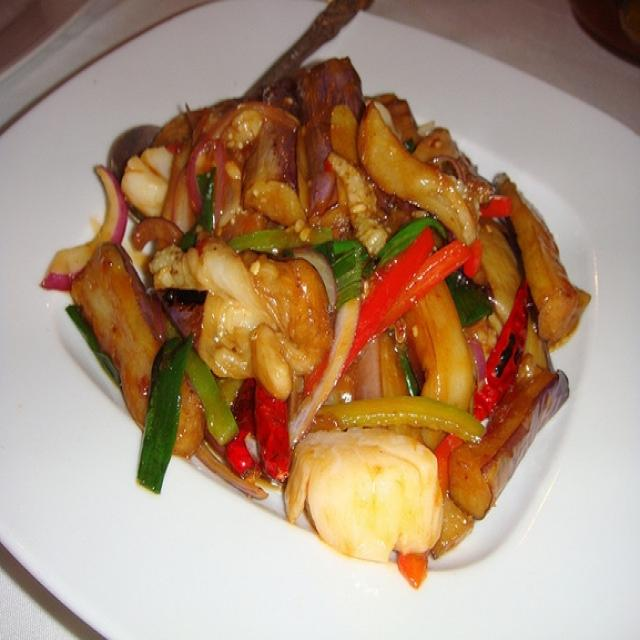鸡蛋料理: (55, 53, 589, 562)
